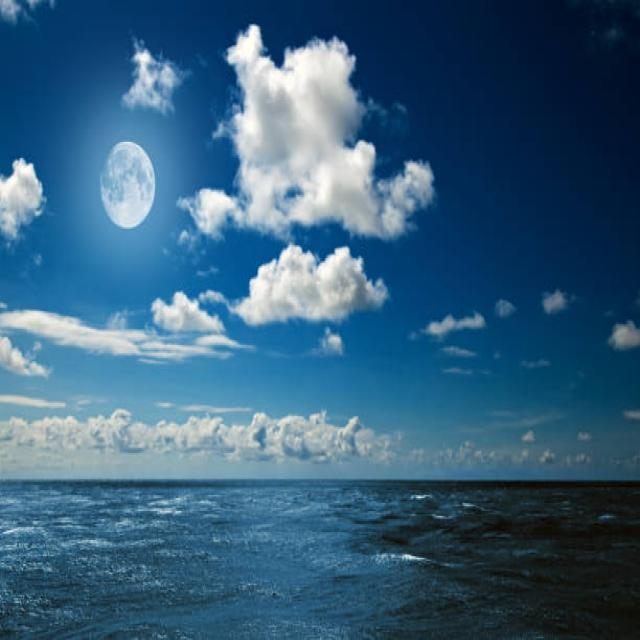moon: (99, 142, 154, 230)
